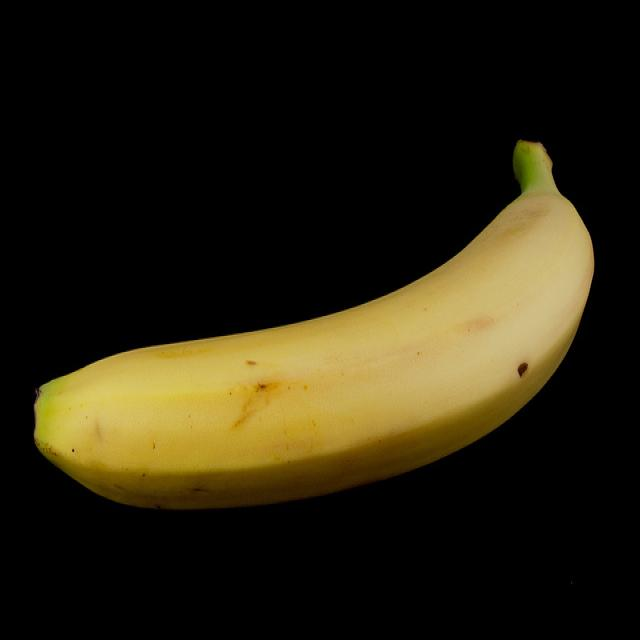Banana: (24, 144, 599, 508)
